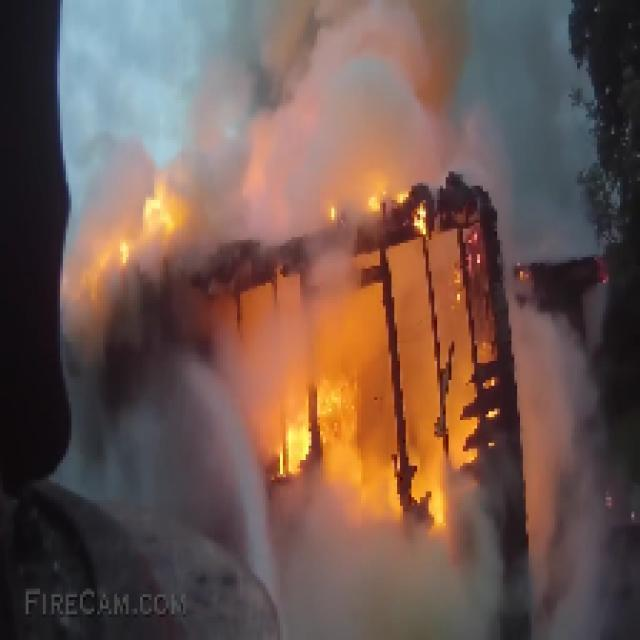Fire: (280, 312, 480, 528), (82, 177, 194, 309), (320, 172, 434, 248)
Smoke: (82, 2, 618, 258), (228, 494, 638, 640)
